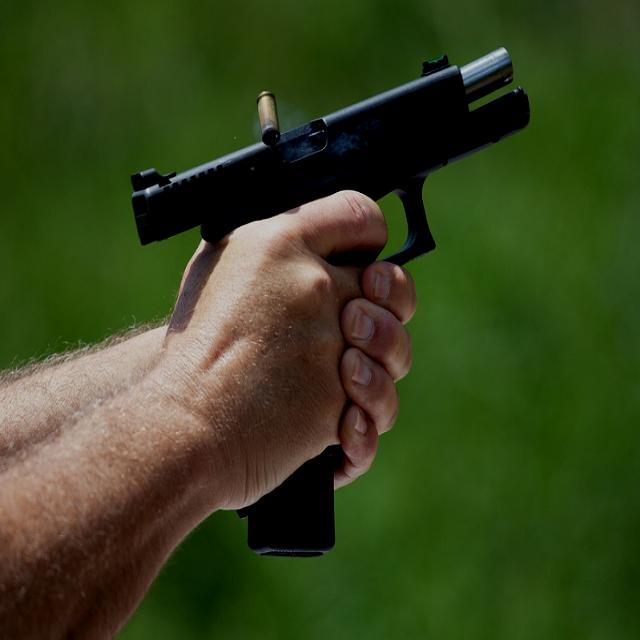pistol: (125, 35, 541, 547)
